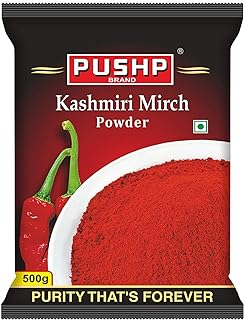Chilli Powder: (3, 5, 244, 320)
